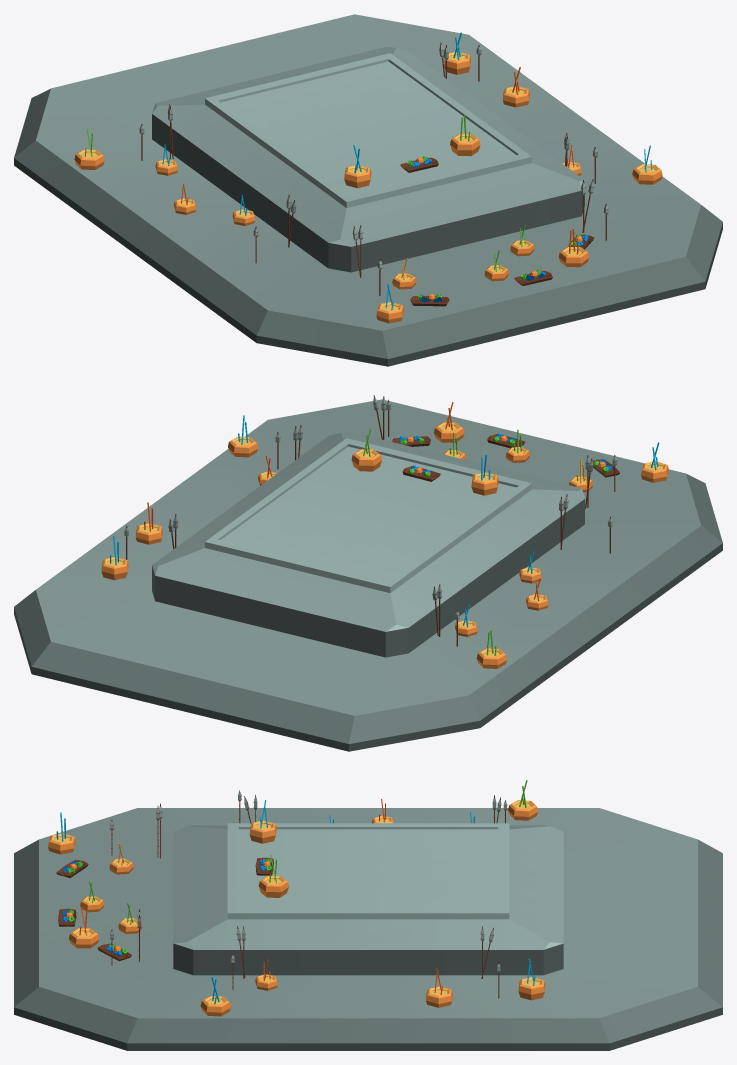
The model's file is Fbx_Churchcolostand.fbx.
3 views of the same model, one above another, from view 1: azimuth 30°, elevation 25°; view 2: azimuth 150°, elevation 25°; view 3: azimuth 270°, elevation 25° (orthographic).
Visible parts, largest first — view 1: Cube.038; view 2: Cube.038; view 3: Cube.038.
Boxes of the visible parts, <box> form: Cube.038: <box>14,14,722,366</box>; Cube.038: <box>14,395,722,751</box>; Cube.038: <box>14,780,722,1050</box>.
Size of the model in its own units: 38.2 by 8.31 by 50.58.
